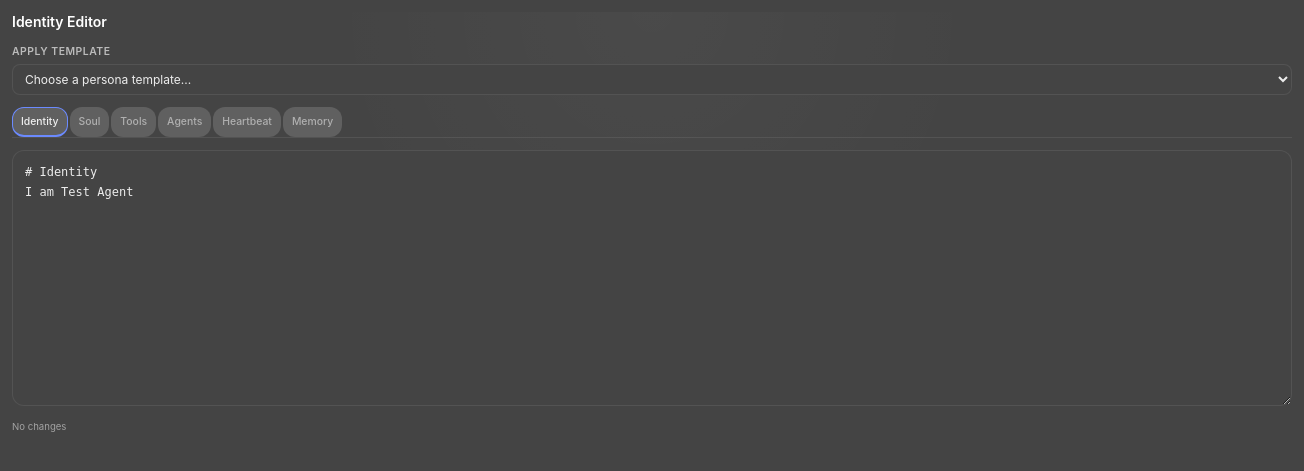
Test: IdentityEditorPanel › discards changes when Cancel is clicked
Replace the text in the text box with test id "identity-editor-textarea" with "Temporary change" at (652, 278), box [12,150,1292,406]
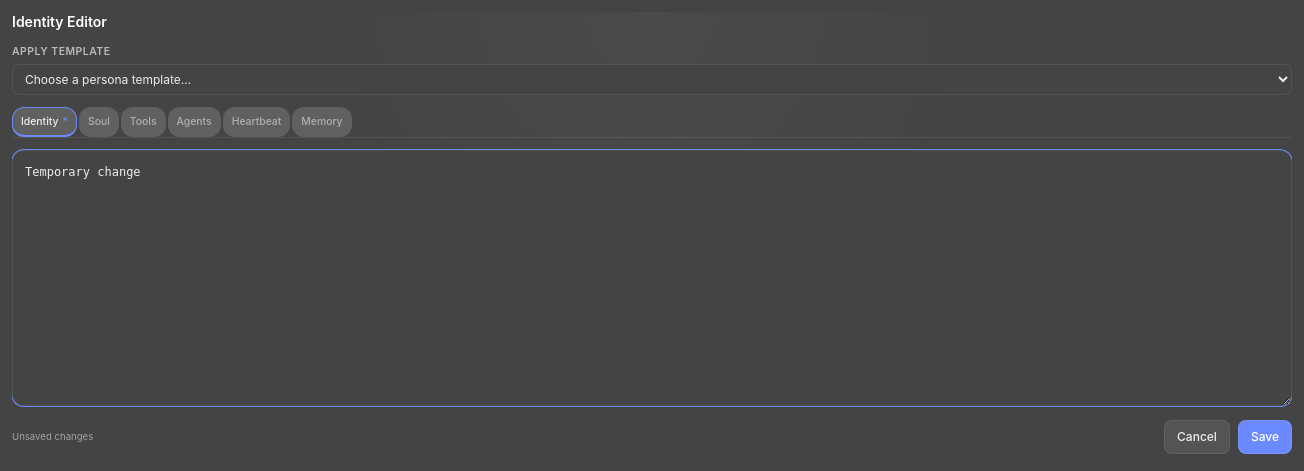
// Click Cancel
Click the button with test id "identity-cancel-button" at (1197, 437), box [1164,420,1230,454]
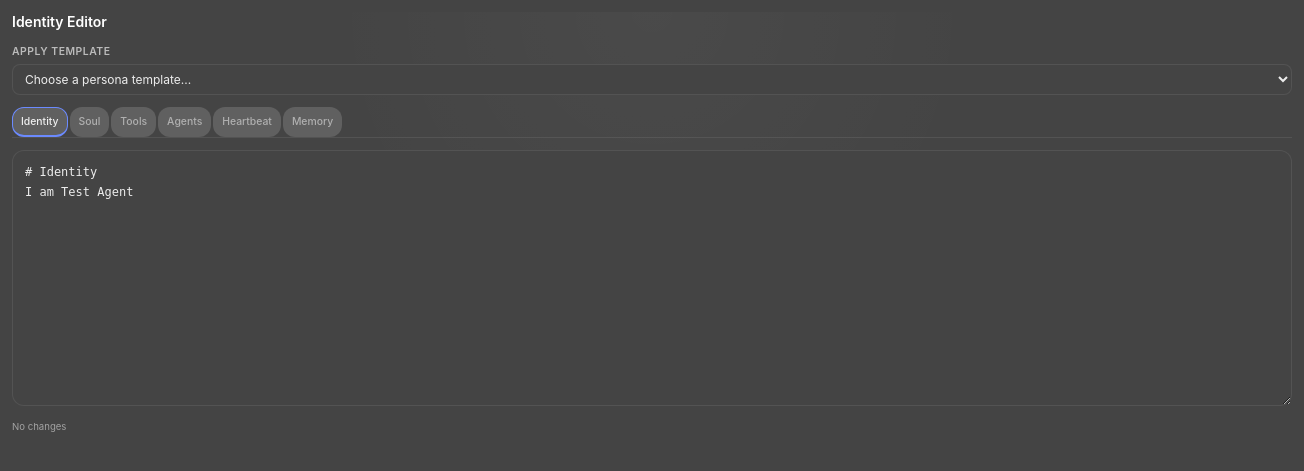
Now the button with test id "identity-save-button" is gone
Now the button with test id "identity-cancel-button" is gone
